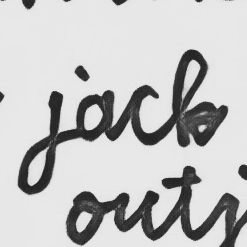a: (73, 88, 119, 146)
c: (127, 83, 164, 148)
j: (14, 85, 67, 197)
k: (168, 47, 226, 149)
